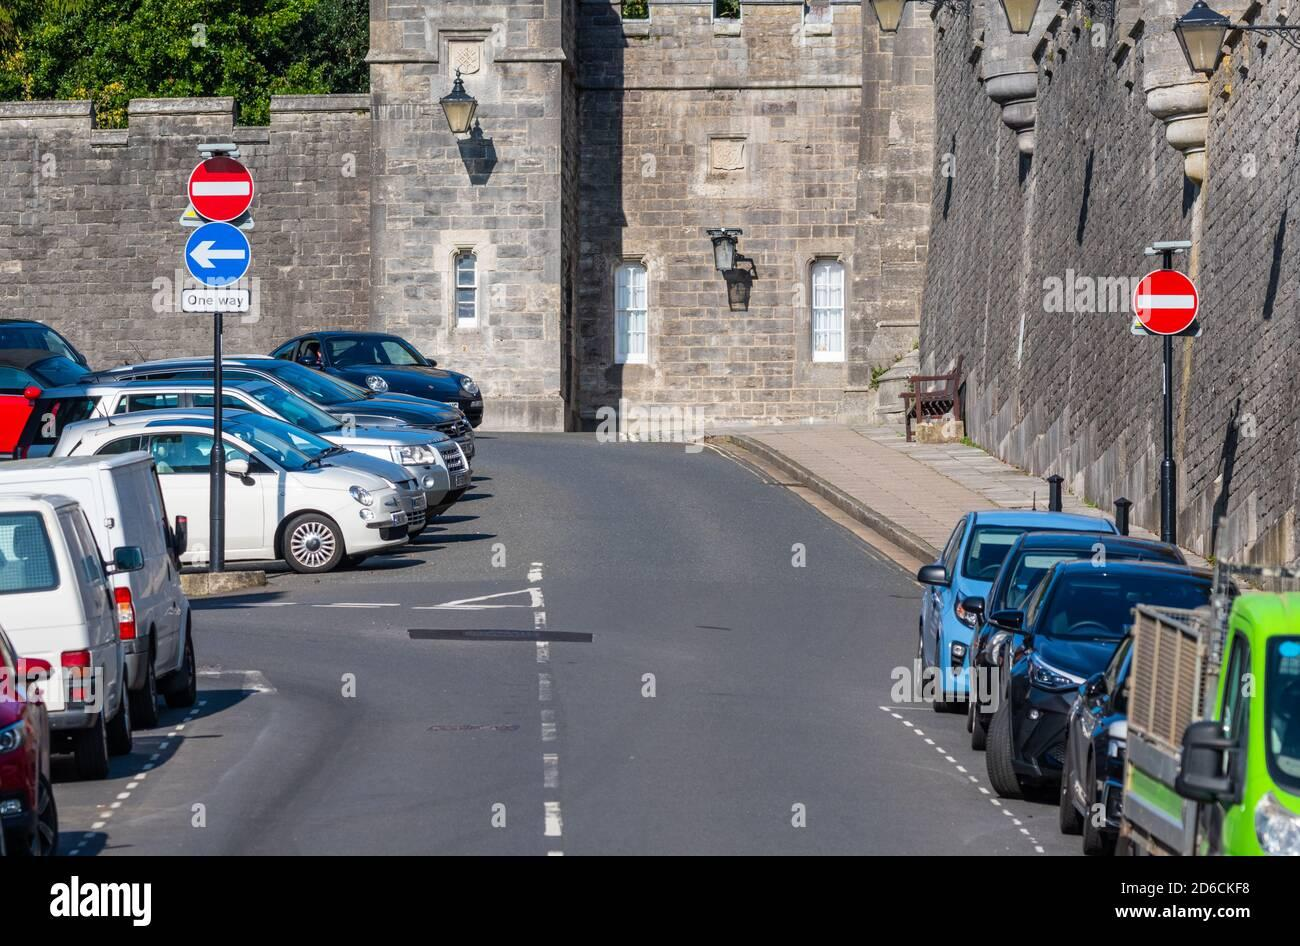no-entry: (1128, 266, 1203, 336), (190, 160, 257, 226)
